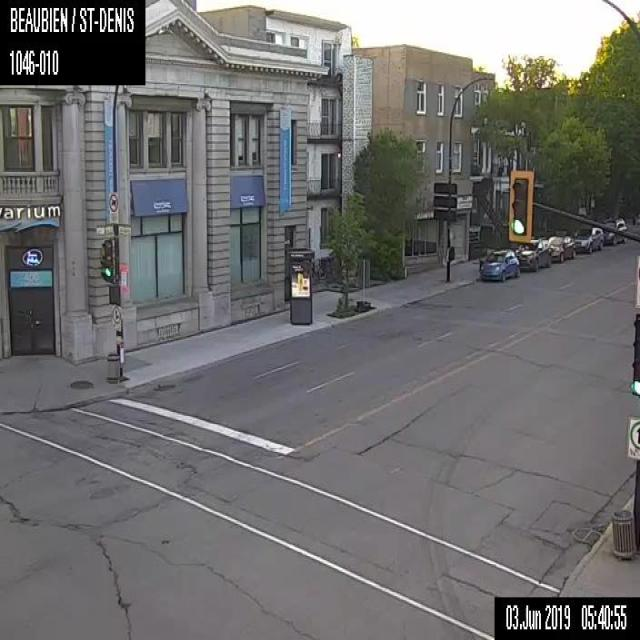vehicle: (479, 248, 520, 281), (515, 237, 551, 270), (572, 226, 604, 253), (546, 234, 575, 262), (602, 217, 626, 244)
